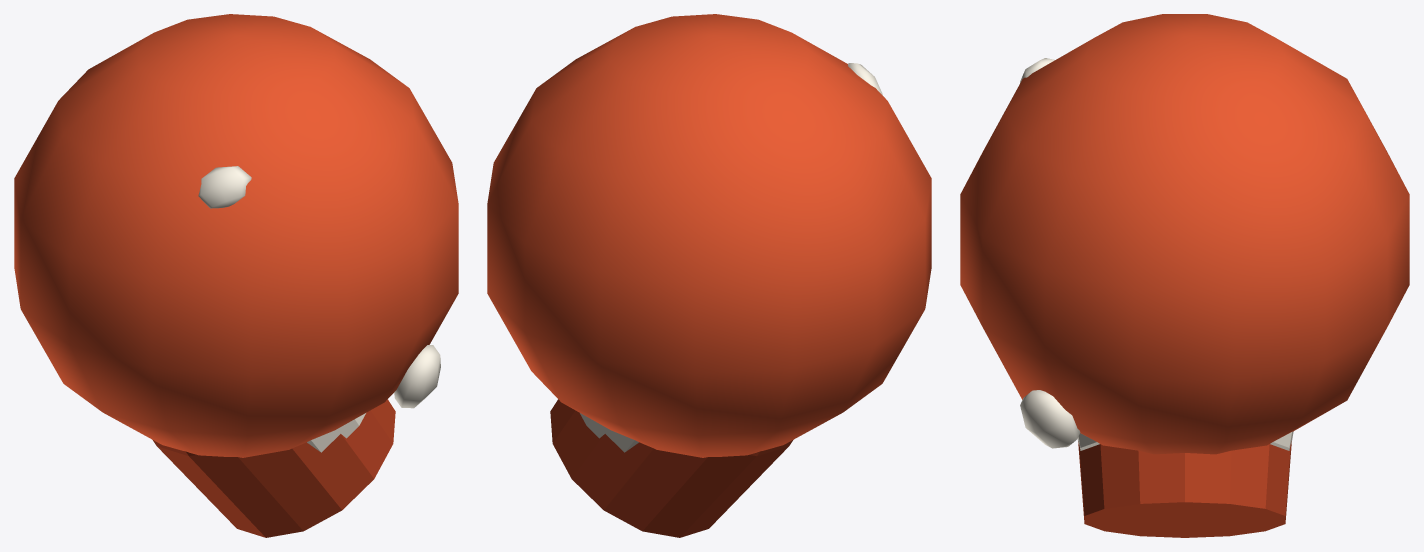
File: round2.glb
The picture shows the model from 3 angles, left to right: view 1: azimuth 30°, elevation 25°; view 2: azimuth 150°, elevation 25°; view 3: azimuth 270°, elevation 25°; orthographic projection.
Parts seen in each view (by area): view 1: shell, swirl-edge, swirl-dot, glint, swirl-band; view 2: shell, swirl-edge, swirl-band; view 3: shell, swirl-edge, swirl-dot.
Boxes of the visible parts, <box> form: shell: <box>14,14,458,457</box>; swirl-edge: <box>153,399,395,537</box>; swirl-dot: <box>394,345,440,408</box>; glint: <box>198,166,251,208</box>; swirl-band: <box>307,413,365,452</box>; shell: <box>487,14,931,457</box>; swirl-edge: <box>550,399,792,537</box>; swirl-band: <box>580,413,638,452</box>; shell: <box>960,14,1409,454</box>; swirl-edge: <box>1078,441,1291,537</box>; swirl-dot: <box>1020,390,1080,448</box>.
Size of the model in its own units: 0.8117 by 1 by 0.8117.
